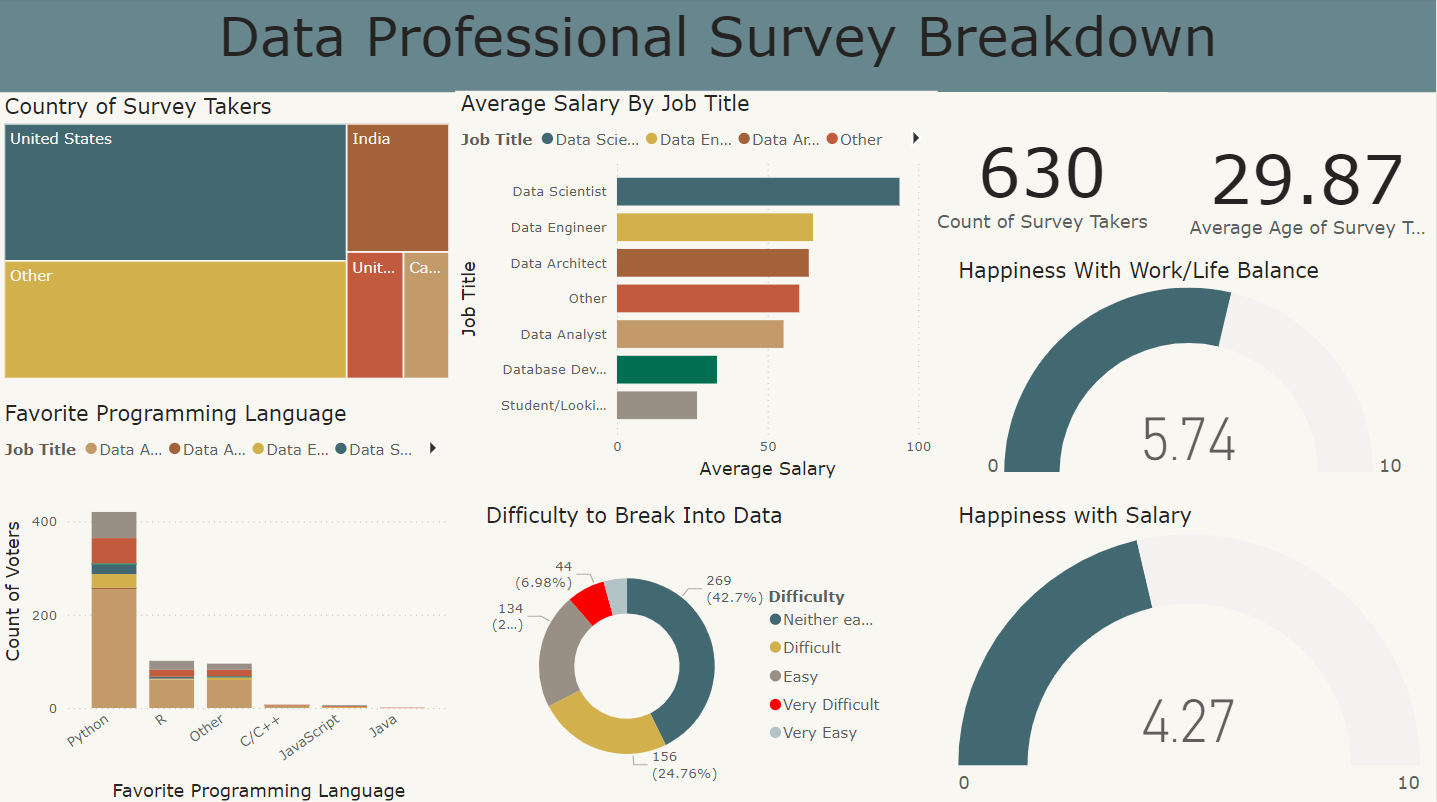

This screenshot's page, from the dashboard's own definition file:
{"tool":"powerbi","page":{"name":"Page 1","canvas":[1280,720],"ordinal":0},"visuals":[{"type":"textbox","box":[0,0,1280.4,84.5],"z":0},{"type":"card","fields":{"Values":["CountNonNull(Data Professional Survey.Unique ID)"]},"box":[817.8,85.1,222.3,155.1],"z":1000},{"type":"card","fields":{"Values":["Avg(Data Professional Survey.Q10 - Current Age)"]},"box":[1051.1,96.1,229.2,144.1],"z":2000},{"type":"barChart","title":"Average Salary By Job Title","fields":{"Category":["Data Professional Survey.Q1 - Which Title Best Fits your Current Role?.1"],"Y":["Avg(Data Professional Survey.Average Salary)"],"Series":["Data Professional Survey.Q1 - Which Title Best Fits your Current Role?.1"]},"box":[406.2,83.7,429.5,349.9],"z":3000},{"type":"columnChart","title":"Favorite Programming Language","fields":{"Category":["Data Professional Survey.Q5 - Favorite Programming Language.1"],"Y":["CountNonNull(Data Professional Survey.Unique ID)"],"Series":["Data Professional Survey.Q1 - Which Title Best Fits your Current Role?.1"]},"box":[0,359.5,406,360.7],"z":4000},{"type":"treemap","title":"Country of Survey Takers","fields":{"Group":["Data Professional Survey.Q11 - Which Country do you live in?.1"],"Values":["CountNonNull(Data Professional Survey.Q11 - Which Country do you live in?.1)"]},"box":[0,85.6,406,259.2],"z":5000},{"type":"gauge","title":"Happiness With Work/Life Balance","fields":{"Y":["Avg(Data Professional Survey.Q6 - How Happy are you in your Current Position with the following? (Work/Life Balance))"],"MinValue":["Min(Data Professional Survey.Q6 - How Happy are you in your Current Position with the following? (Work/Life Balance))1"],"MaxValue":["Max(Data Professional Survey.Q6 - How Happy are you in your Current Position with the following? (Work/Life Balance))2"]},"box":[849.4,231.9,430.9,201.7],"z":6000},{"type":"gauge","title":"Happiness with Salary","fields":{"Y":["Avg(Data Professional Survey.Q6 - How Happy are you in your Current Position with the following? (Salary))"],"MinValue":["Min(Data Professional Survey.Q6 - How Happy are you in your Current Position with the following? (Salary))1"],"MaxValue":["Max(Data Professional Survey.Q6 - How Happy are you in your Current Position with the following? (Salary))2"]},"box":[849.4,450.1,421.3,270.3],"z":7000},{"type":"donutChart","title":"Difficulty to Break Into Data","fields":{"Category":["Data Professional Survey.Q7 - How difficult was it for you to break into Data?"],"Y":["CountNonNull(Data Professional Survey.Q7 - How difficult was it for you to break into Data?)"]},"box":[428.1,450.1,370.5,270.3],"z":8000}]}

Visuals, with their boxes in screenshot pixels (x1, y1, x2, y2), scaled from the page's 1280x720 canvas onto the 1437x802 screenshot:
textbox: region(0, 0, 1436, 94)
card - CountNonNull(Data Professional Survey.Unique ID): region(918, 95, 1168, 268)
card - Avg(Data Professional Survey.Q10 - Current Age): region(1180, 107, 1436, 268)
"Average Salary By Job Title" barChart: region(456, 93, 938, 483)
"Favorite Programming Language" columnChart: region(0, 400, 456, 801)
"Country of Survey Takers" treemap: region(0, 95, 456, 384)
"Happiness With Work/Life Balance" gauge: region(954, 258, 1436, 483)
"Happiness with Salary" gauge: region(954, 501, 1427, 801)
"Difficulty to Break Into Data" donutChart: region(481, 501, 897, 801)
